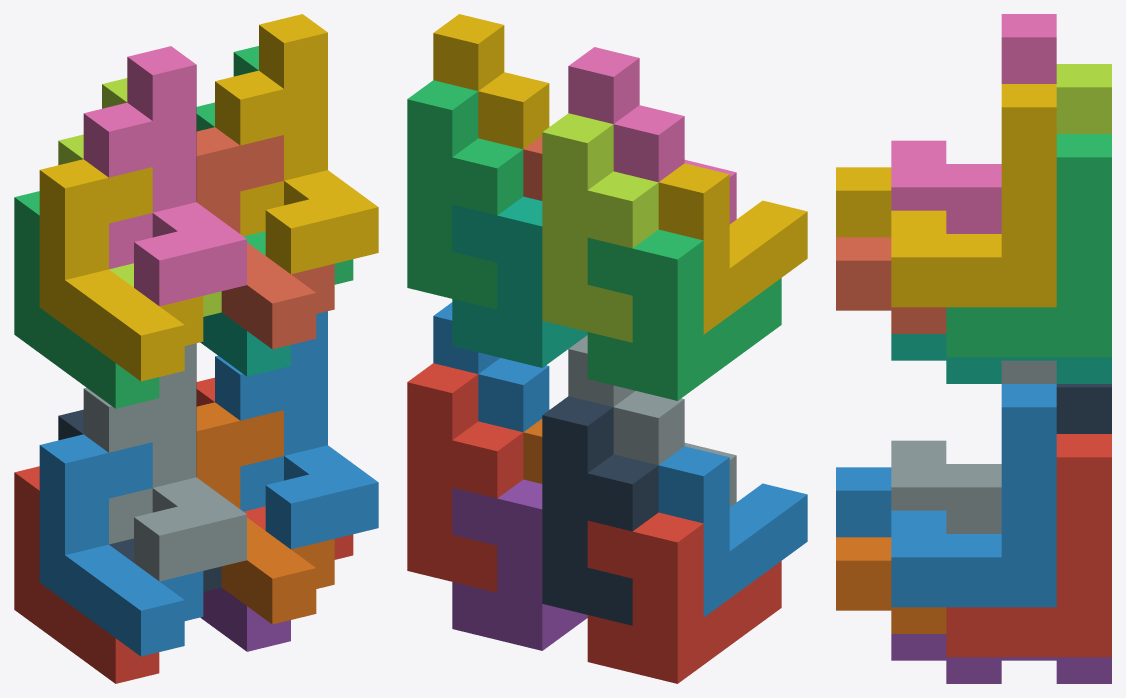
File: tiling.obj
3 views of the same model, side by side, from view 1: azimuth 30°, elevation 25°; view 2: azimuth 150°, elevation 25°; view 3: azimuth 270°, elevation 25° (orthographic). The views are drawn at different scales.
Parts seen in each view (by area): view 1: copy_2_domain_4, copy_2_domain_8, copy_1_domain_2, copy_1_domain_4, copy_2_domain_2, copy_2_domain_6, copy_1_domain_6, copy_1_domain_8, copy_1_domain_3, copy_1_domain_1, copy_1_domain_5, copy_1_domain_7 (+4 smaller); view 2: copy_1_domain_3, copy_1_domain_1, copy_2_domain_1, copy_2_domain_7, copy_2_domain_3, copy_2_domain_5, copy_1_domain_2, copy_1_domain_4, copy_1_domain_5, copy_1_domain_7, copy_2_domain_4, copy_2_domain_8 (+4 smaller); view 3: copy_2_domain_6, copy_2_domain_8, copy_2_domain_5, copy_2_domain_7, copy_2_domain_4, copy_2_domain_2, copy_1_domain_6, copy_1_domain_8, copy_1_domain_5, copy_1_domain_7, copy_1_domain_2, copy_1_domain_4 (+2 smaller).
Part boxes in pixels (x1,y1,x2,y2): copy_2_domain_4: [83, 46, 246, 306]; copy_2_domain_8: [215, 14, 378, 274]; copy_1_domain_2: [39, 434, 203, 656]; copy_1_domain_4: [39, 159, 203, 381]; copy_2_domain_2: [83, 343, 246, 581]; copy_2_domain_6: [215, 311, 378, 549]; copy_1_domain_6: [196, 402, 334, 624]; copy_1_domain_8: [196, 127, 334, 349]; copy_1_domain_3: [14, 191, 159, 408]; copy_1_domain_1: [14, 466, 159, 683]; copy_1_domain_5: [200, 587, 290, 651]; copy_1_domain_7: [200, 312, 290, 376]; copy_1_domain_3: [587, 229, 781, 400]; copy_1_domain_1: [587, 512, 781, 683]; copy_2_domain_1: [542, 396, 658, 625]; copy_2_domain_7: [407, 80, 523, 309]; copy_2_domain_3: [542, 113, 658, 342]; copy_2_domain_5: [407, 363, 523, 592]; copy_1_domain_2: [658, 446, 807, 617]; copy_1_domain_4: [658, 163, 807, 334]; copy_1_domain_5: [452, 479, 587, 650]; copy_1_domain_7: [452, 196, 587, 367]; copy_2_domain_4: [568, 47, 736, 224]; copy_2_domain_8: [433, 14, 549, 149]; copy_2_domain_6: [891, 384, 1056, 607]; copy_2_domain_8: [891, 84, 1056, 307]; copy_2_domain_5: [946, 434, 1111, 657]; copy_2_domain_7: [946, 134, 1111, 357]; copy_2_domain_4: [891, 14, 1056, 233]; copy_2_domain_2: [891, 360, 1056, 533]; copy_1_domain_6: [836, 537, 946, 633]; copy_1_domain_8: [836, 237, 946, 333]; copy_1_domain_5: [891, 634, 1111, 683]; copy_1_domain_7: [891, 334, 1111, 383]; copy_1_domain_2: [836, 467, 891, 537]; copy_1_domain_4: [836, 167, 891, 237].
Size of the model in its own units: 6 by 12 by 5.
